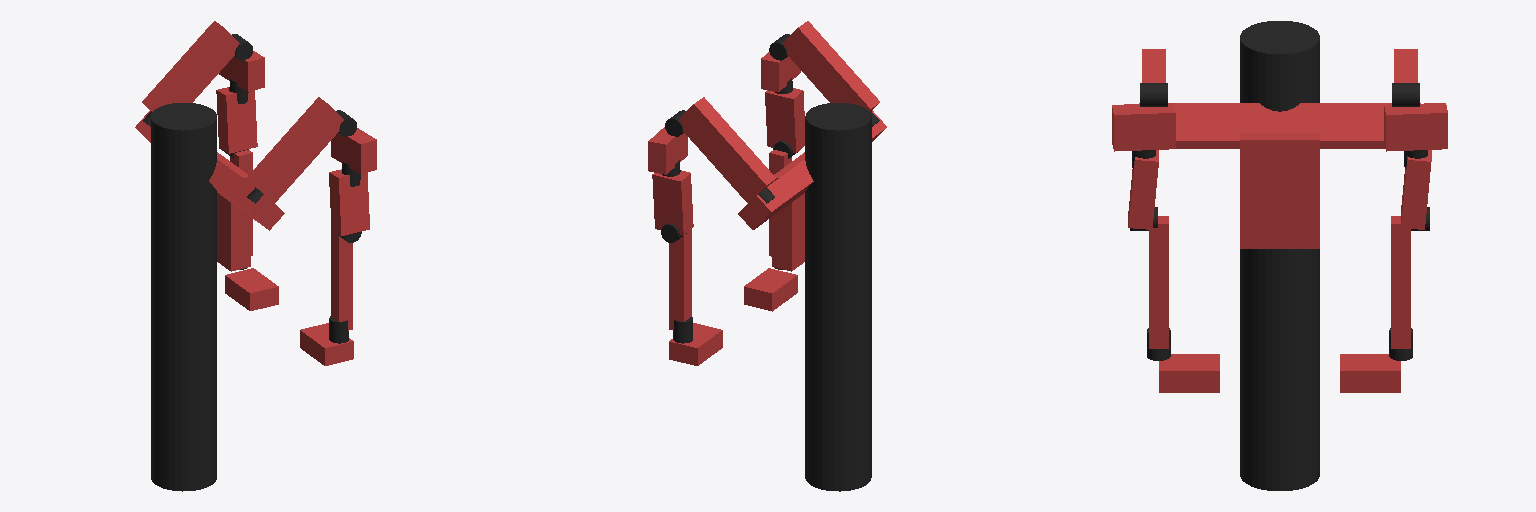
URDF robot description (UpperBodyXo):
<?xml version="1.0" ?>
<robot name="UpperBodyXo">
  <link name="base">
    <inertial>
      <origin rpy="0 0 0" xyz="0 0 0"/>
      <mass value="0.0001"/>
      <inertia ixx="1e-08" ixy="0" ixz="0" iyy="1e-08" iyz="0" izz="1e-08"/>
    </inertial>
    <visual><!-- cylinder -->
      <origin rpy="0 0 0" xyz="-0.09 0 0.6"/>
      <geometry>
        <cylinder length="1.2" radius="0.1"/>
      </geometry>
      <material name="darkgray">
        <color rgba=".2 .2 .2 1"/>
      </material>
    </visual>
    <visual><!-- backplate -->
      <origin rpy="0 0 0" xyz="0.05 0 0.85"/>
      <geometry>
        <box size="0.07 0.2 0.3"/>
      </geometry>
      <material name="red">
        <color rgba="0.8 0.3 0.3 0.3"/>
      </material>
    </visual>
    <visual><!-- utorso crossbar -->
      <origin rpy="0 0.8726 0" xyz="0 0 1"/>
      <geometry>
        <box size="0.1 0.7 0.07"/>
      </geometry>
      <material name="red">
        <color rgba="0.8 0.3 0.3 0.3"/>
      </material>
    </visual>
  </link>

<link name="l_ushou">
    <inertial>
        <origin rpy="0 0 0" xyz="0.01647 0.00381 0.19425"/>
        <mass value="4.8909"/>
        <inertia ixx="1e-1" ixy="0" ixz="0" iyy="1e-1" iyz="0" izz="1e-1"/>
    </inertial>
    <visual><!-- l_ushou cylinder vis -->
      <origin rpy="0 0.8726 0" xyz="0 0 0"/>
      <geometry>
        <cylinder length="0.07" radius="0.03"/>
      </geometry>
      <material name="darkgray">
        <color rgba=".2 .2 .2 1"/>
      </material>
    </visual>
    <visual><!-- l_ushou link vis -->
      <origin rpy="0 0.8726 0" xyz="0.12 0 0.12"/>
      <geometry>
        <box size="0.1 0.06 0.3302"/>
      </geometry>
      <material name="red">
        <color rgba="0.8 0.3 0.3 0.3"/>
      </material>
    </visual>
</link>
<link name="l_lshou">
    <inertial>
        <origin rpy="0 0 0" xyz="0.11087 0.0182 -0.02557"/>
        <mass value="3.231"/>
        <inertia ixx="1e-1" ixy="0" ixz="0" iyy="1e-1" iyz="0" izz="1e-1"/>
    </inertial>
    <visual><!-- l_lshou cylinder vis -->
      <origin rpy="1.57 0 0" xyz="0 0 0"/>
      <geometry>
        <cylinder length="0.07" radius="0.03"/>
      </geometry>
      <material name="darkgray">
        <color rgba=".2 .2 .2 1"/>
      </material>
    </visual>
    <visual><!-- l_lshou link vis -->
      <origin rpy="-1.57 0 1.657" xyz="0.0245364 0.024638 -0.0772033"/>
      <geometry>
        <box size="0.15494 0.1 0.06"/>
      </geometry>
      <material name="red">
        <color rgba="0.8 0.3 0.3 0.3"/>
      </material>
    </visual>
</link>
<link name="l_uarm">
    <inertial>
        <origin rpy="0 0 0" xyz="-0.00112 -0.00157 -0.11125"/>
        <mass value="4.8803"/>
        <inertia ixx="1e-1" ixy="0" ixz="0" iyy="1e-1" iyz="0" izz="1e-1"/>
    </inertial>
    <visual><!-- l_uarm cylinder vis -->
      <origin rpy="0 0.08726 0" xyz="0 0 0"/>
      <geometry>
        <cylinder length="0.07" radius="0.03"/>
      </geometry>
      <material name="darkgray">
        <color rgba=".2 .2 .2 1"/>
      </material>
    </visual>
    <visual><!-- l_uarm link vis -->
      <origin rpy="0 0.08726 1.57" xyz="-0.008 0 -0.09398"/>
      <geometry>
        <box size="0.06 0.1 0.18796"/>
      </geometry>
      <material name="red">
        <color rgba="0.8 0.3 0.3 0.3"/>
      </material>
    </visual>
</link>
<link name="l_larm">
    <inertial>
        <origin rpy="0 0 0" xyz="0.11918 -0.02395 0.0337"/>
        <mass value="0.69113"/>
        <inertia ixx="1e-1" ixy="0" ixz="0" iyy="1e-1" iyz="0" izz="1e-1"/>
    </inertial>
    <visual><!-- l_larm cylinder vis -->
      <origin rpy="1.57 0 0" xyz="0 0 0"/>
      <geometry>
        <cylinder length="0.07" radius="0.03"/>
      </geometry>
      <material name="darkgray">
        <color rgba=".2 .2 .2 1"/>
      </material>
    </visual>
    <visual><!-- l_larm link vis -->
      <origin rpy="0 0 0" xyz="0.003048 -0.03683 -0.17145"/>
      <geometry>
        <box size="0.05 0.05 0.3429"/>
      </geometry>
      <material name="red">
        <color rgba="0.8 0.3 0.3 0.3"/>
      </material>
    </visual>
</link>
<link name="l_hand">
    <inertial>
        <origin rpy="0 0 0" xyz="0.07931 0.00146 -0.0648"/>
        <mass value="3.231"/>
        <inertia ixx="1e-1" ixy="0" ixz="0" iyy="1e-1" iyz="0" izz="1e-1"/>
    </inertial>
    <visual><!-- l_hand cylinder vis -->
      <origin rpy="0 0 0" xyz="0 0 0"/>
      <geometry>
        <cylinder length="0.07" radius="0.03"/>
      </geometry>
      <material name="darkgray">
        <color rgba=".2 .2 .2 1"/>
      </material>
    </visual>
    <visual><!-- l_hand link vis -->
      <origin rpy="0 0 0" xyz="0 -0.0762 -0.0833882"/>
      <geometry>
        <box size="0.1 0.1524 0.06"/>
      </geometry>
      <material name="red">
        <color rgba="0.8 0.3 0.3 0.3"/>
      </material>
    </visual>
</link>

<link name="r_ushou">
    <inertial>
        <origin rpy="0 0 0" xyz="0.01647 -0.00381 0.19425"/>
        <mass value="4.8909"/>
        <inertia ixx="1e-1" ixy="0" ixz="0" iyy="1e-1" iyz="0" izz="1e-1"/>
    </inertial>
    <visual><!-- r_ushou cylinder vis -->
      <origin rpy="0 0.8726 0" xyz="0 0 0"/>
      <geometry>
        <cylinder length="0.07" radius="0.03"/>
      </geometry>
      <material name="darkgray">
        <color rgba=".2 .2 .2 1"/>
      </material>
    </visual>
    <visual><!-- r_ushou link vis -->
      <origin rpy="0 0.8726 0" xyz="0.12 0 0.12"/>
      <geometry>
        <box size="0.1 0.06 0.3302"/>
      </geometry>
      <material name="red">
        <color rgba="0.8 0.3 0.3 0.3"/>
      </material>
    </visual>
</link>
<link name="r_lshou">
    <inertial>
        <origin rpy="0 0 0" xyz="0.11087 -0.0182 -0.02557"/>
        <mass value="3.231"/>
        <inertia ixx="1e-1" ixy="0" ixz="0" iyy="1e-1" iyz="0" izz="1e-1"/>
    </inertial>
    <visual><!-- r_lshou cylinder vis -->
      <origin rpy="1.57 0 0" xyz="0 0 0"/>
      <geometry>
        <cylinder length="0.07" radius="0.03"/>
      </geometry>
      <material name="darkgray">
        <color rgba=".2 .2 .2 1"/>
      </material>
    </visual>
    <visual><!-- r_lshou link vis -->
      <origin rpy="-1.57 0 1.657" xyz="0.0245364 -0.024638 -0.0772033"/>
      <geometry>
        <box size="0.15494 0.1 0.06"/>
      </geometry>
      <material name="red">
        <color rgba="0.8 0.3 0.3 0.3"/>
      </material>
    </visual>
</link>
<link name="r_uarm">
    <inertial>
        <origin rpy="0 0 0" xyz="-0.00112 0.00157 -0.11125"/>
        <mass value="4.8803"/>
        <inertia ixx="1e-1" ixy="0" ixz="0" iyy="1e-1" iyz="0" izz="1e-1"/>
    </inertial>
    <visual><!-- r_uarm cylinder vis -->
      <origin rpy="0 0.08726 0" xyz="0 0 0"/>
      <geometry>
        <cylinder length="0.07" radius="0.03"/>
      </geometry>
      <material name="darkgray">
        <color rgba=".2 .2 .2 1"/>
      </material>
    </visual>
    <visual><!-- r_uarm link vis -->
      <origin rpy="0 0.08726 1.57" xyz="-0.008 0 -0.09398"/>
      <geometry>
        <box size="0.06 0.1 0.18796"/>
      </geometry>
      <material name="red">
        <color rgba="0.8 0.3 0.3 0.3"/>
      </material>
    </visual>
</link>
<link name="r_larm">
    <inertial>
        <origin rpy="0 0 0" xyz="0.11918 0.02395 0.0337"/>
        <mass value="0.69113"/>
        <inertia ixx="1e-1" ixy="0" ixz="0" iyy="1e-1" iyz="0" izz="1e-1"/>
    </inertial>
    <visual><!-- r_larm cylinder vis -->
      <origin rpy="1.57 0 0" xyz="0 0 0"/>
      <geometry>
        <cylinder length="0.07" radius="0.03"/>
      </geometry>
      <material name="darkgray">
        <color rgba=".2 .2 .2 1"/>
      </material>
    </visual>
    <visual><!-- r_larm link vis -->
      <origin rpy="0 0 0" xyz="0.003048 0.03683 -0.17145"/>
      <geometry>
        <box size="0.05 0.05 0.3429"/>
      </geometry>
      <material name="red">
        <color rgba="0.8 0.3 0.3 0.3"/>
      </material>
    </visual>
</link>
<link name="r_hand">
    <inertial>
        <origin rpy="0 0 0" xyz="0.07931 -0.00146 -0.0648"/>
        <mass value="3.231"/>
        <inertia ixx="1e-1" ixy="0" ixz="0" iyy="1e-1" iyz="0" izz="1e-1"/>
    </inertial>
    <visual><!-- r_hand cylinder vis -->
      <origin rpy="0 0 0" xyz="0 0 0"/>
      <geometry>
        <cylinder length="0.07" radius="0.03"/>
      </geometry>
      <material name="darkgray">
        <color rgba=".2 .2 .2 1"/>
      </material>
    </visual>
    <visual><!-- r_hand link vis -->
      <origin rpy="0 0 0" xyz="0 0.0762 -0.0833882"/>
      <geometry>
        <box size="0.1 0.1524 0.06"/>
      </geometry>
      <material name="red">
        <color rgba="0.8 0.3 0.3 0.3"/>
      </material>
    </visual>
</link>

<joint name="la1_sho_abad" type="revolute">
    <axis xyz="0.766044443 0 0.64278761"/>
    <origin rpy="0 0 0" xyz="0.000 0.314 1.045"/>
    <parent link="base"/>
    <child link="l_ushou"/>
    <limit effort="100" lower="-0.174532925" upper="2.094395102" velocity="12"/>
    <dynamics damping="0.1" friction="0.0"/>
</joint>

<joint name="la2_sho_flex" type="revolute">
    <axis xyz="0 -1 0"/>
    <origin rpy="0 0 0" xyz="0.282 0.000 0.171"/>
    <parent link="l_ushou"/>
    <child link="l_lshou"/>
    <limit effort="100" lower="-0.476474886" upper="2.094395102" velocity="12"/>
    <dynamics damping="0.1" friction="0.0"/>
</joint>

<joint name="la3_hum_rota" type="revolute">
    <axis xyz="0.087155743 0 0.996194698"/>
    <origin rpy="0 0 0" xyz="0.016 0.025 -0.154"/>
    <parent link="l_lshou"/>
    <child link="l_uarm"/>
    <limit effort="100" lower="-1.396263402" upper="0.872664626" velocity="12"/>
    <dynamics damping="0.1" friction="0.0"/>
</joint>

<joint name="la4_elb_flex" type="revolute">
    <axis xyz="0 -1 0"/>
    <origin rpy="0 0 0" xyz="-0.016 0.000 -0.188"/>
    <parent link="l_uarm"/>
    <child link="l_larm"/>
    <limit effort="100" lower="0" upper="2.670353756" velocity="12"/>
    <dynamics damping="0.1" friction="0.0"/>
</joint>

<joint name="la5_wri_rota" type="revolute">
    <axis xyz="0 0 1"/>
    <origin rpy="0 0 0" xyz="-0.006 -0.037 -0.343"/>
    <parent link="l_larm"/>
    <child link="l_hand"/>
    <limit effort="100" lower="-1.570796327" upper="1.570796327" velocity="12"/>
    <dynamics damping="0.1" friction="0.0"/>
</joint>

<joint name="ra1_sho_abad" type="revolute">
    <axis xyz="-0.766044443 0 -0.64278761"/>
    <origin rpy="0 0 0" xyz="0.000 -0.314 1.045"/>
    <parent link="base"/>
    <child link="r_ushou"/>
    <limit effort="100" lower="-0.174532925" upper="2.094395102" velocity="12"/>
    <dynamics damping="0.1" friction="0.0"/>
</joint>

<joint name="ra2_sho_flex" type="revolute">
    <axis xyz="0 -1 0"/>
    <origin rpy="0 0 0" xyz="0.282 0.000 0.171"/>
    <parent link="r_ushou"/>
    <child link="r_lshou"/>
    <limit effort="100" lower="-0.476474886" upper="2.094395102" velocity="12"/>
    <dynamics damping="0.1" friction="0.0"/>
</joint>

<joint name="ra3_hum_rota" type="revolute">
    <axis xyz="-0.087155743 0 -0.996194698"/>
    <origin rpy="0 0 0" xyz="0.016 -0.025 -0.154"/>
    <parent link="r_lshou"/>
    <child link="r_uarm"/>
    <limit effort="100" lower="-1.396263402" upper="0.872664626" velocity="12"/>
    <dynamics damping="0.1" friction="0.0"/>
</joint>

<joint name="ra4_elb_flex" type="revolute">
    <axis xyz="0 -1 0"/>
    <origin rpy="0 0 0" xyz="-0.016 0.000 -0.188"/>
    <parent link="r_uarm"/>
    <child link="r_larm"/>
    <limit effort="100" lower="0" upper="2.670353756" velocity="12"/>
    <dynamics damping="0.1" friction="0.0"/>
</joint>

<joint name="ra5_wri_rota" type="revolute">
    <axis xyz="0 0 -1"/>
    <origin rpy="0 0 0" xyz="-0.006 0.037 -0.343"/>
    <parent link="r_larm"/>
    <child link="r_hand"/>
    <limit effort="100" lower="-1.570796327" upper="1.570796327" velocity="12"/>
    <dynamics damping="0.1" friction="0.0"/>
</joint>


</robot>

--- What the picture shows (computed from the rendered views, not written in the file) ---
The picture shows the robot from 3 angles, left to right: view 1: azimuth 30°, elevation 25°; view 2: azimuth 150°, elevation 25°; view 3: azimuth 270°, elevation 25°; orthographic projection.
Robot: UpperBodyXo — 11 links, 10 joints (10 revolute); root link base; default pose: all joints at 0.
Links seen in each view (by area): view 1: base, r_ushou, l_ushou, r_uarm, l_uarm, r_larm, r_hand, r_lshou, l_hand, l_lshou; view 2: base, l_ushou, r_ushou, l_larm, l_uarm, r_uarm, l_hand, l_lshou, r_hand, r_lshou, r_larm; view 3: base, l_lshou, r_lshou, r_larm, l_hand, r_hand, l_larm, l_uarm, r_uarm, l_ushou, r_ushou.
Boxes of the visible links, <box> form: base: <box>135,103,284,491</box>; r_ushou: <box>246,97,343,203</box>; l_ushou: <box>142,21,239,126</box>; r_uarm: <box>329,161,369,235</box>; l_uarm: <box>216,78,257,153</box>; r_larm: <box>331,229,361,330</box>; r_hand: <box>300,316,353,365</box>; r_lshou: <box>331,110,376,173</box>; l_hand: <box>225,268,278,310</box>; l_lshou: <box>219,34,264,91</box>; base: <box>738,103,886,491</box>; l_ushou: <box>679,97,775,203</box>; r_ushou: <box>782,21,879,126</box>; l_larm: <box>661,223,691,329</box>; l_uarm: <box>652,160,693,235</box>; r_uarm: <box>765,78,804,152</box>; l_hand: <box>669,317,722,365</box>; l_lshou: <box>648,110,687,174</box>; r_hand: <box>744,268,797,311</box>; r_lshou: <box>761,34,800,92</box>; r_larm: <box>769,141,797,256</box>; base: <box>1139,21,1420,490</box>; l_lshou: <box>1384,83,1447,151</box>; r_lshou: <box>1112,83,1175,151</box>; r_larm: <box>1130,207,1168,348</box>; l_hand: <box>1340,328,1412,392</box>; r_hand: <box>1147,328,1219,392</box>; l_larm: <box>1391,207,1429,348</box>; l_uarm: <box>1401,150,1431,229</box>; r_uarm: <box>1128,150,1158,229</box>; l_ushou: <box>1394,49,1417,82</box>; r_ushou: <box>1142,49,1165,82</box>.
Size in the robot's own frame: 0.5331 by 0.8368 by 1.31 metres.
Geometry: primitives only (box / cylinder / sphere), no mesh files.